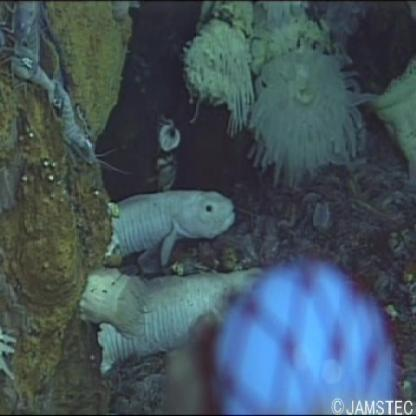Bio: (79, 182, 271, 376), (1, 1, 113, 175)
